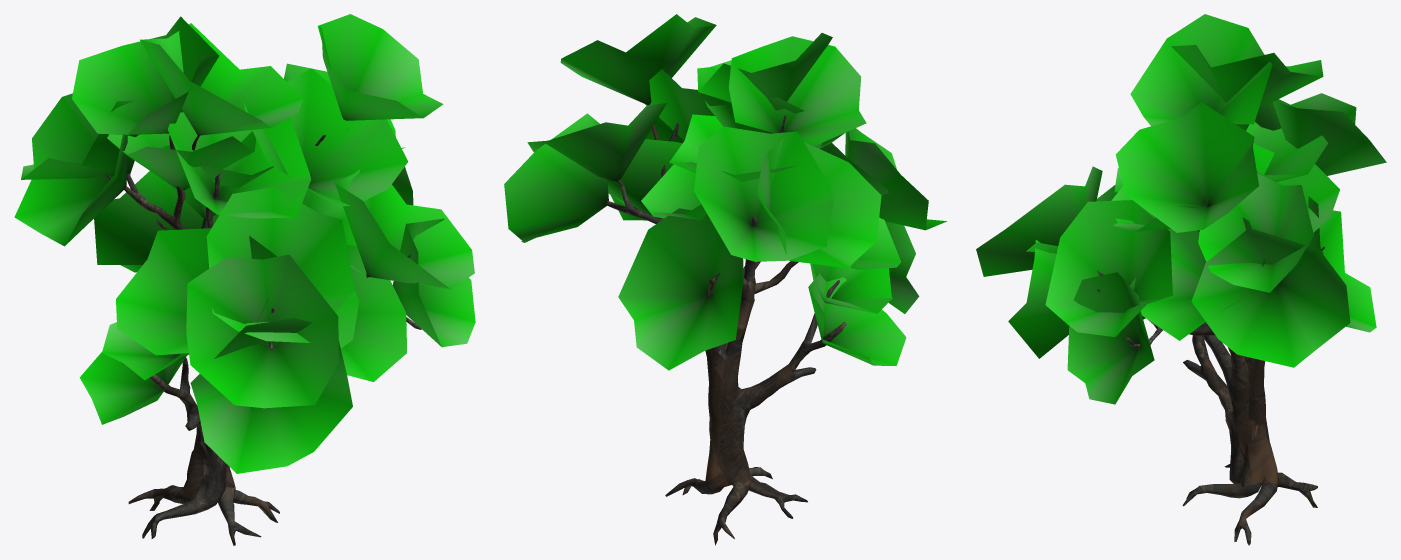
Rendered from tree3.fbx.
The picture shows the model from 3 angles, left to right: view 1: azimuth 30°, elevation 25°; view 2: azimuth 150°, elevation 25°; view 3: azimuth 270°, elevation 25°; orthographic projection. The views are drawn at different scales.
Visible parts, largest first — view 1: branches, tree3; view 2: branches, tree3; view 3: branches, tree3.
Part boxes in pixels (x1,y1,x2,y2): branches: [14, 14, 475, 473]; tree3: [106, 135, 421, 545]; branches: [504, 14, 946, 370]; tree3: [606, 115, 846, 545]; branches: [976, 14, 1386, 404]; tree3: [1097, 230, 1324, 545].
Size of the model in its own units: 1645 by 2258 by 1786.
